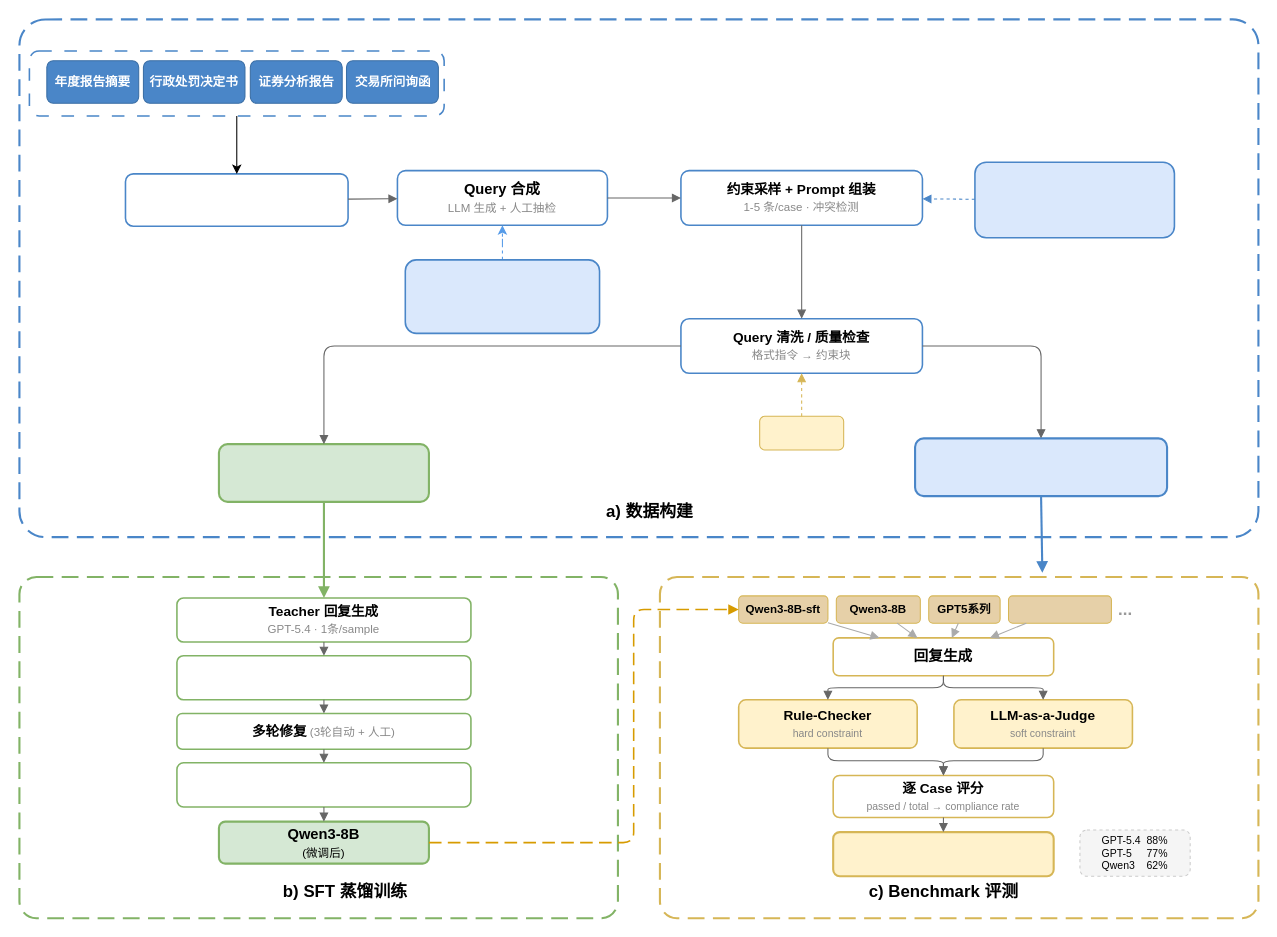
Some shapes in this 1277 by 937 pixel diagram are drawn without their labels. Here are the shapes that lost their labels. From the top down, the centre of each, then its label:
the point at 236,199: Context 数据收集 真实数据 + LLM 生成
the point at 1074,199: 约束分类体系 25 Hard Checker 24 Soft Rubric 5 大类 · 20 子标签
the point at 801,432: GPT-5
the point at 323,472: SFT 训练集 2134 prompts 1-5 约束/sample
the point at 1041,467: FinIF Benchmark 100 cases · 300 约束 (187 hard + 113 soft)
the point at 1059,609: DeepSeek-V4系列
the point at 323,677: 约束打分 Hard Checker + Soft LLM Judge
the point at 323,784: Qwen3 SFT 格式化 非思考模式 · 空 think 标签
the point at 943,854: Tier 聚合 → 模型对比 T1 · T2 · T3 → Overall Score
